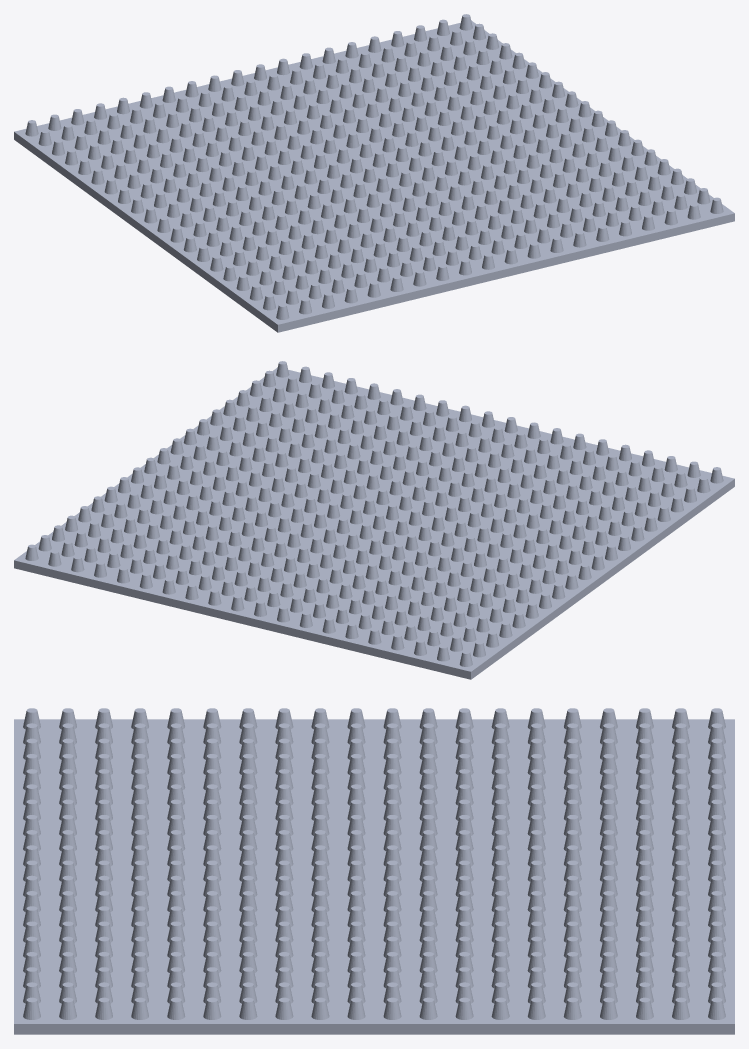
The model's file is Bügelperlen.glb.
3 renders of one model, top to bottom at view 1: azimuth 30°, elevation 25°; view 2: azimuth 150°, elevation 25°; view 3: azimuth 270°, elevation 25°, orthographic. The views are drawn at different scales.
Visible parts, largest first — view 1: Mesh_Mesh_head_geo.001_lambert2SG.001; view 2: Mesh_Mesh_head_geo.001_lambert2SG.001; view 3: Mesh_Mesh_head_geo.001_lambert2SG.001.
Boxes of the visible parts, <box> form: Mesh_Mesh_head_geo.001_lambert2SG.001: <box>14,14,734,332</box>; Mesh_Mesh_head_geo.001_lambert2SG.001: <box>14,361,734,679</box>; Mesh_Mesh_head_geo.001_lambert2SG.001: <box>14,708,734,1034</box>.
Size of the model in its own units: 120 by 5 by 120.
